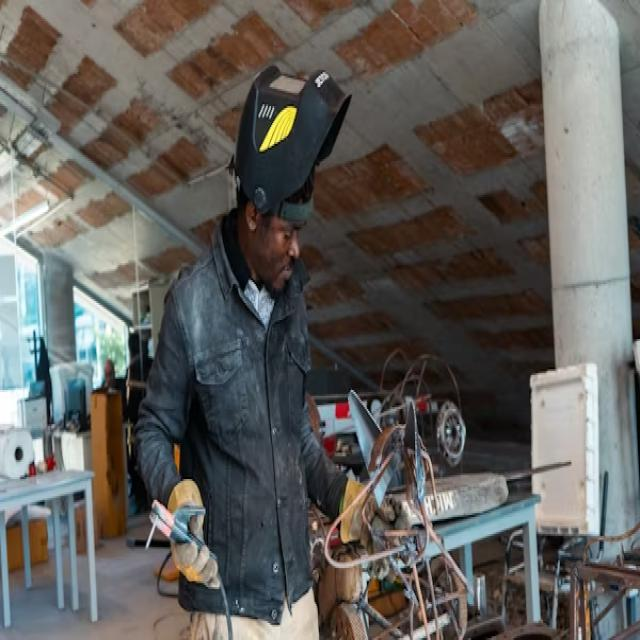helmet_lifted: (229, 57, 362, 300)
